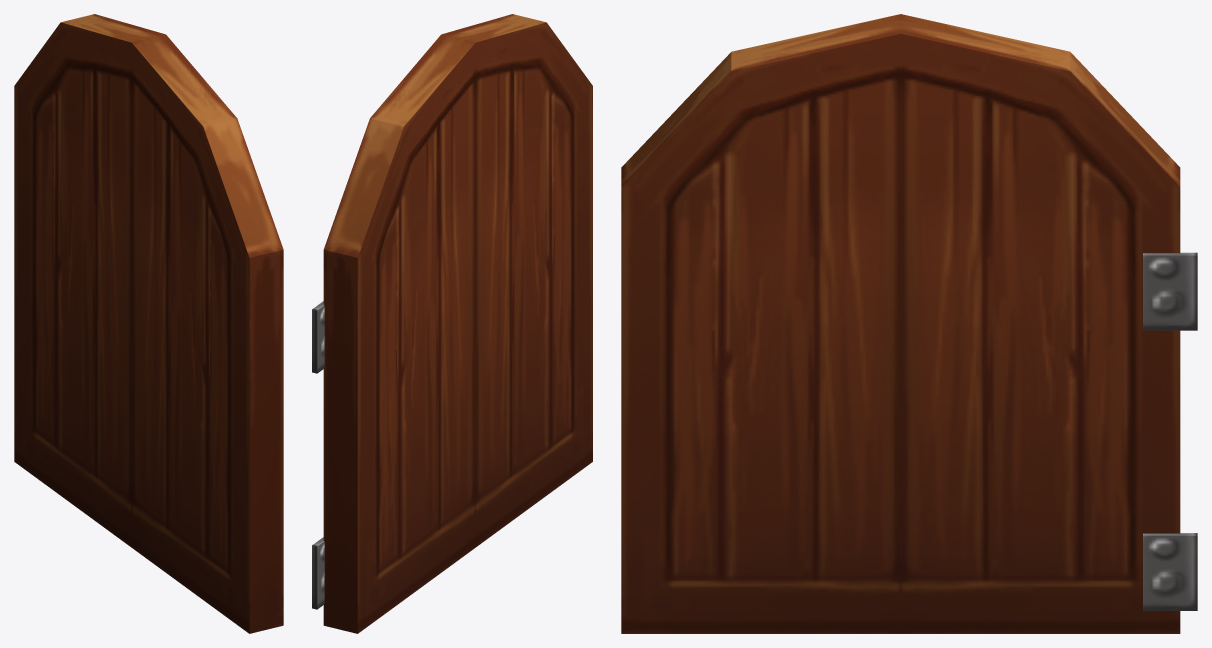
File: Meng02.FBX
3 renders of one model, left to right at view 1: azimuth 30°, elevation 25°; view 2: azimuth 150°, elevation 25°; view 3: azimuth 270°, elevation 25°, orthographic. The views are drawn at different scales.
Visible parts, largest first — view 1: 对象001; view 2: 对象001; view 3: 对象001.
Boxes of the visible parts, x1,y1,x2,y2 form: 对象001: (14,14,283,633); 对象001: (312,14,592,633); 对象001: (621,14,1197,633).
Bounding box in the file's own units: 6.15 × 77.27 × 67.21.
